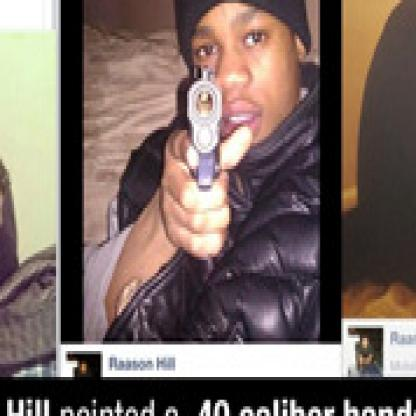gun: (178, 65, 234, 201), (0, 91, 14, 218)
